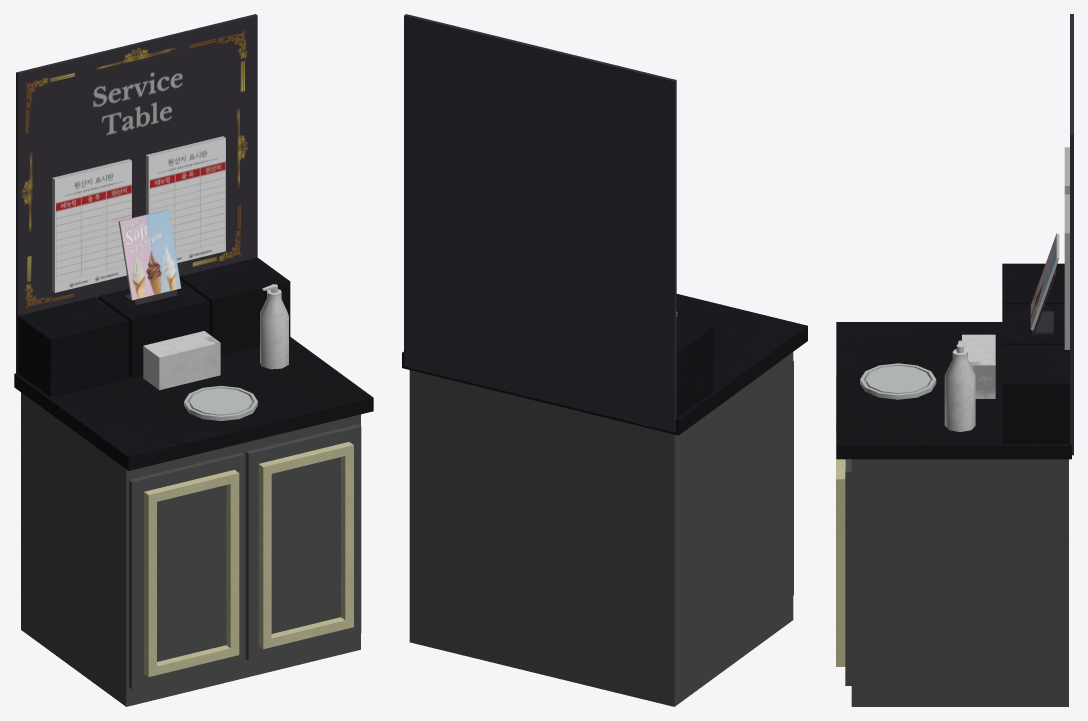
The model's file is LC_3060_Service_table_LOD2.FBX.
The picture shows the model from 3 angles, left to right: view 1: azimuth 30°, elevation 25°; view 2: azimuth 150°, elevation 25°; view 3: azimuth 270°, elevation 25°; orthographic projection. The views are drawn at different scales.
Visible parts, largest first — view 1: LC_3060_Service_table_LOD2; view 2: LC_3060_Service_table_LOD2; view 3: LC_3060_Service_table_LOD2.
Part boxes in pixels (x1,y1,x2,y2): LC_3060_Service_table_LOD2: [14, 14, 373, 706]; LC_3060_Service_table_LOD2: [402, 14, 807, 706]; LC_3060_Service_table_LOD2: [836, 14, 1073, 706].
Bounding box in the file's own units: 94 × 204 × 76.61.
Materials: 1 (1 with a texture image).
